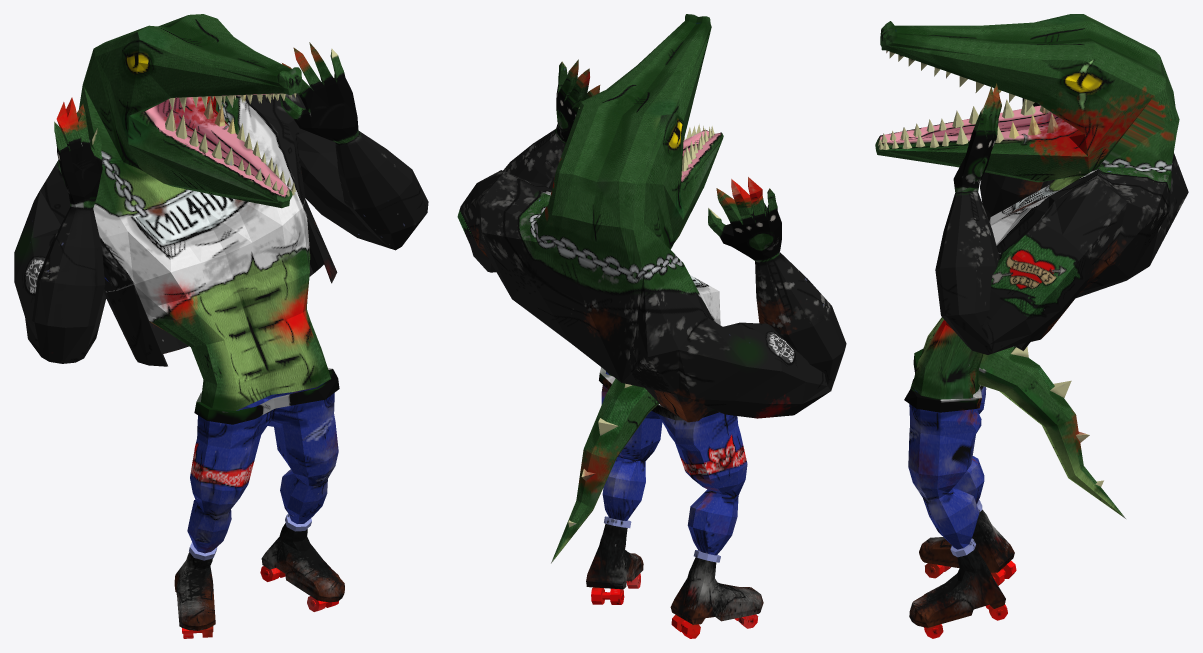
File: cocodrilaBonesSelect_000016.obj
The picture shows the model from 3 angles, left to right: view 1: azimuth 30°, elevation 25°; view 2: azimuth 150°, elevation 25°; view 3: azimuth 270°, elevation 25°; orthographic projection. The views are drawn at different scales.
Visible parts, largest first — view 1: Crocodile.002_Cylinder.002; view 2: Crocodile.002_Cylinder.002; view 3: Crocodile.002_Cylinder.002.
Part boxes in pixels (x1,y1,x2,y2): Crocodile.002_Cylinder.002: (14, 14, 428, 638); Crocodile.002_Cylinder.002: (457, 14, 846, 638); Crocodile.002_Cylinder.002: (875, 14, 1188, 638).
Bounding box in the file's own units: 4.53 × 6.61 × 3.22.
